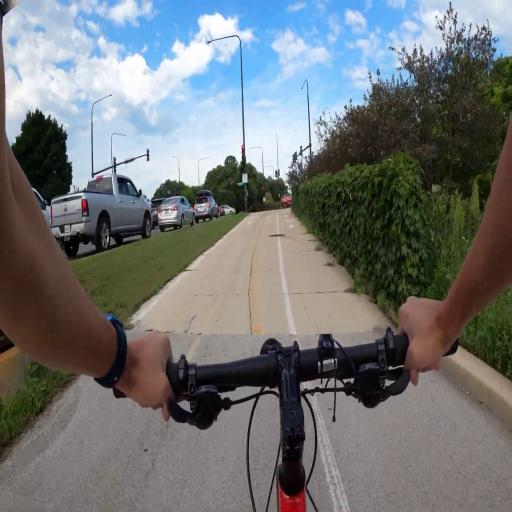Street_Light: (203, 32, 247, 162), (85, 89, 113, 175), (298, 72, 316, 170), (298, 72, 314, 168), (108, 130, 130, 168), (248, 140, 266, 177), (167, 150, 182, 186), (195, 151, 209, 184), (271, 127, 281, 172)
